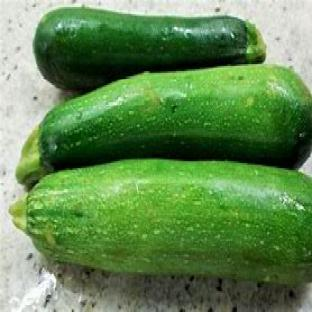Zucchini: (11, 160, 311, 282), (17, 65, 311, 183), (34, 7, 264, 88)
